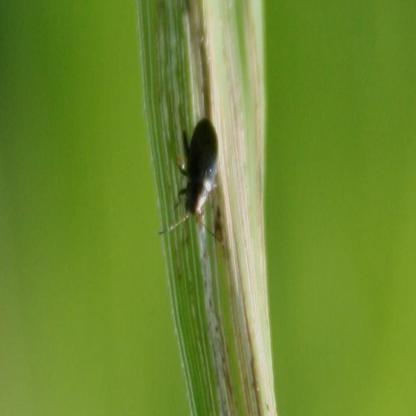rice-bug: (175, 115, 226, 224)
